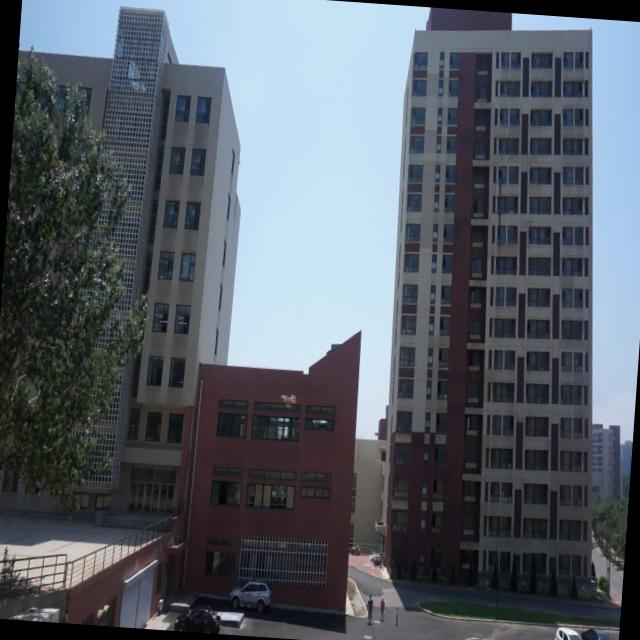drone: (278, 389, 298, 408)
